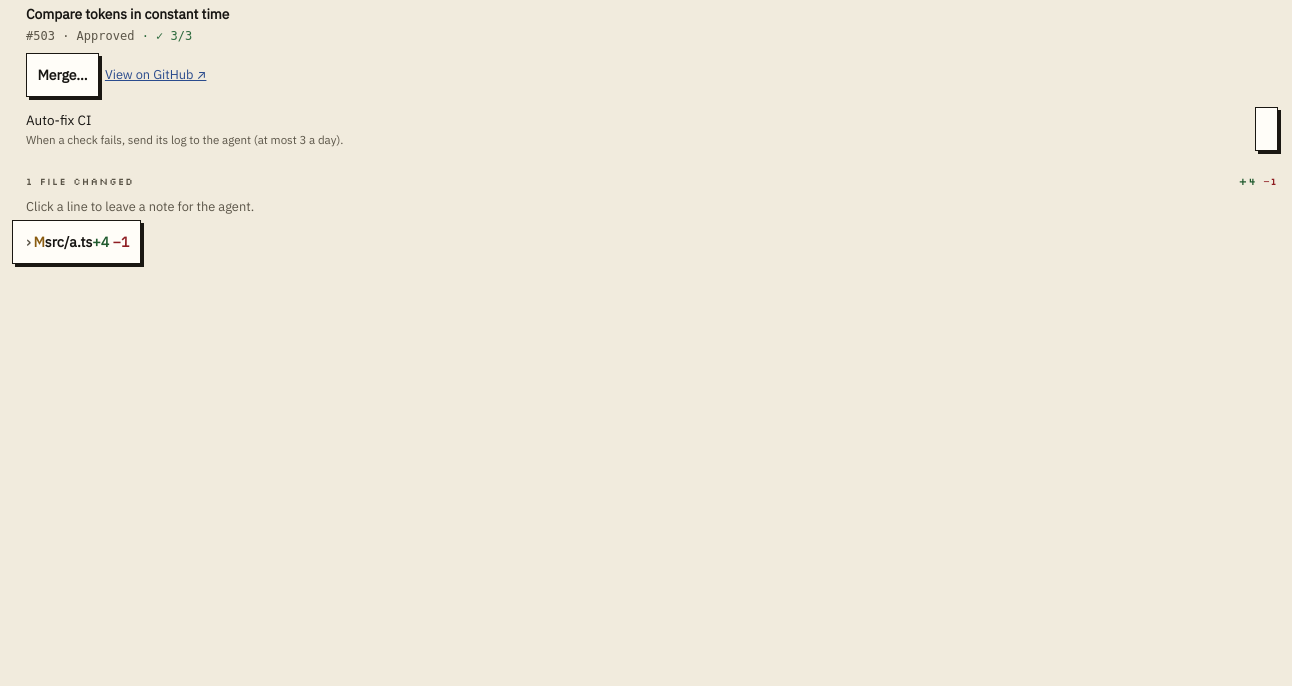
Test: ChangesPane › #503: the Auto-fix switch turns on, shows the last send, and says why it can't change
The image size is (1292, 686).
Click the switch named "Auto-fix CI".
click(1267, 129)  # box [1255,107,1278,151]
(page scrolled)
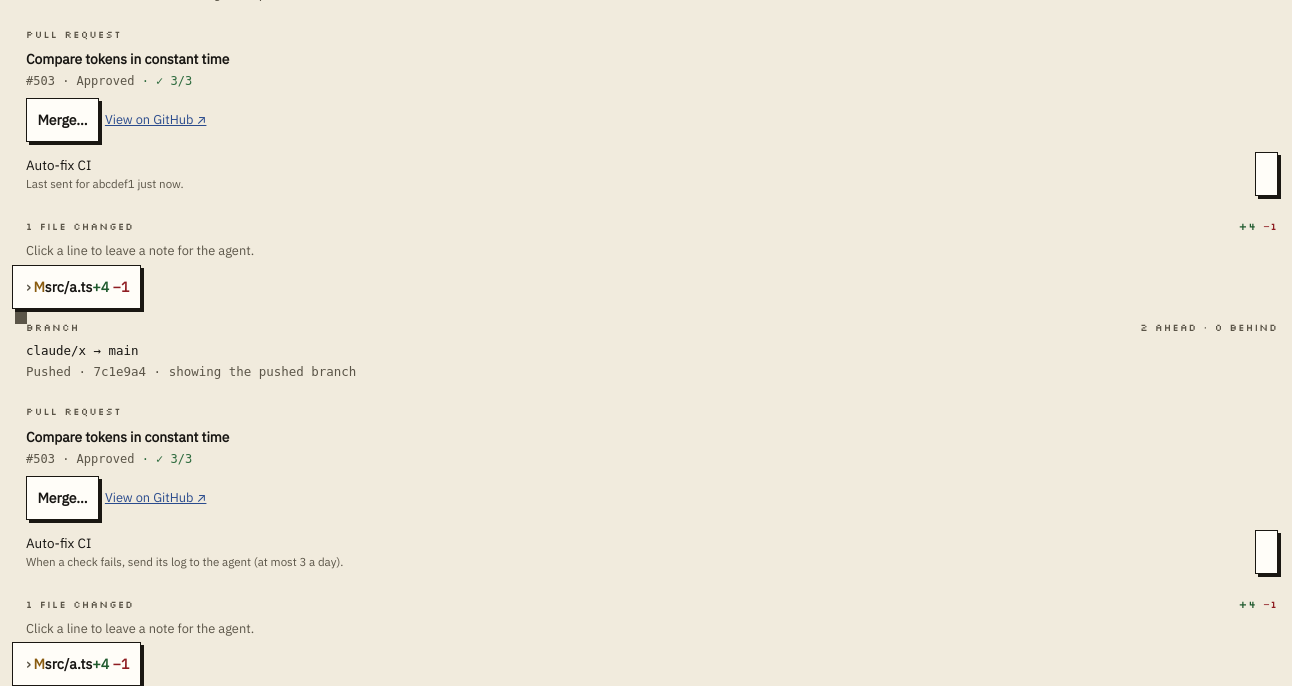
Result: the text "Last sent for abcdef1" is shown at [26,176,184,191]
Click the 2nd switch named "Auto-fix CI".
click(1267, 552)  # box [1255,530,1278,574]
(page scrolled)
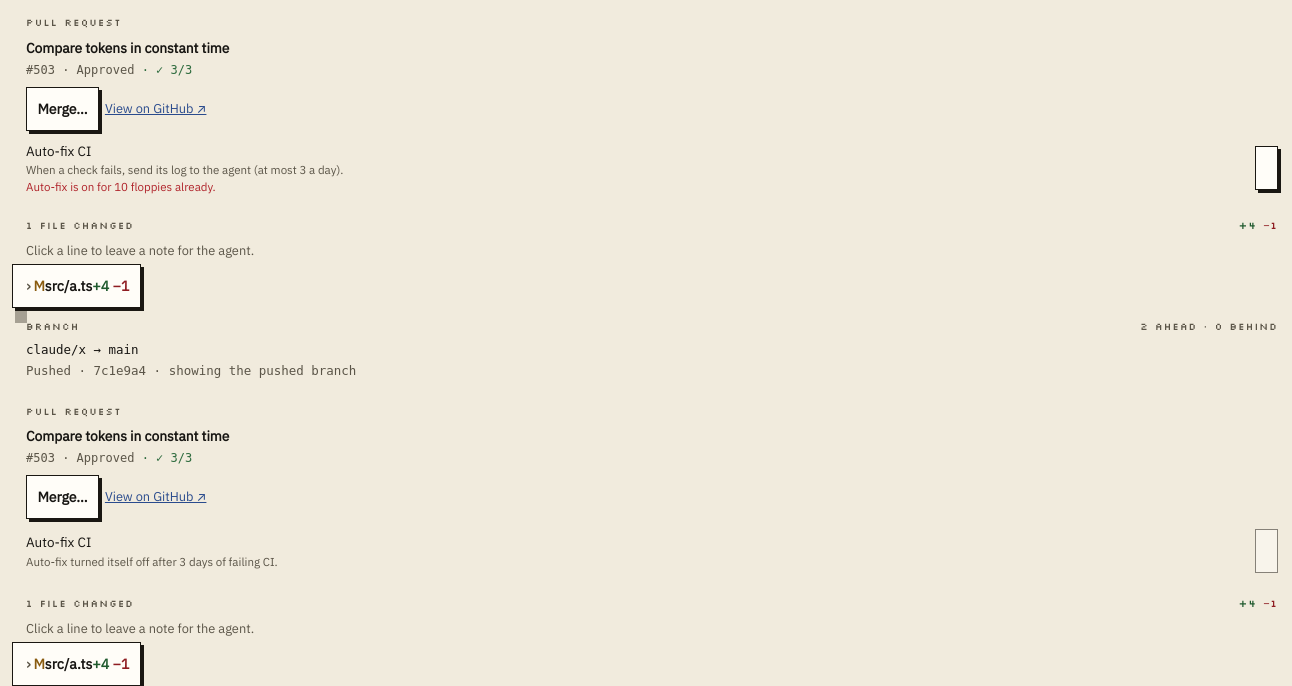
Result: the message "Auto-fix is on for 10 floppies already." is shown at [26,179,216,194]
Result: the 2nd switch named "Auto-fix CI" is disabled at [1255,529,1278,573]
Result: the text "turned itself off" is shown at [26,554,278,568]
